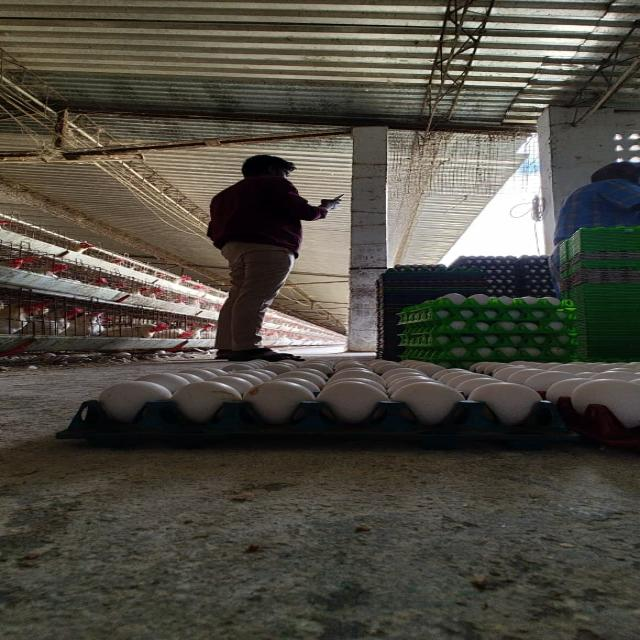egg_tray: (58, 358, 565, 437), (58, 400, 577, 448), (0, 218, 222, 308), (401, 360, 639, 434), (440, 360, 639, 445), (99, 361, 331, 426), (470, 360, 639, 447), (400, 294, 575, 362), (376, 268, 485, 360), (401, 293, 574, 322), (572, 284, 639, 358), (399, 296, 575, 324), (556, 397, 639, 450), (400, 322, 575, 346), (402, 344, 574, 368), (399, 326, 576, 348), (377, 274, 485, 306), (576, 286, 639, 338), (401, 330, 576, 348), (560, 267, 639, 306), (560, 226, 639, 262), (560, 252, 639, 288), (376, 267, 485, 293), (569, 270, 639, 310), (405, 318, 573, 334), (572, 284, 639, 324), (429, 305, 574, 322), (424, 292, 566, 308), (400, 346, 479, 370), (401, 346, 479, 370), (575, 332, 639, 360), (516, 256, 554, 297), (383, 264, 477, 280), (452, 256, 519, 273), (481, 268, 518, 296), (517, 349, 572, 364), (486, 276, 515, 296), (431, 358, 476, 370), (438, 358, 477, 371), (399, 331, 428, 346), (483, 350, 514, 364), (387, 369, 408, 376), (492, 358, 511, 364), (474, 352, 487, 358), (528, 352, 536, 356), (498, 387, 506, 391), (158, 424, 165, 427), (561, 282, 564, 286), (423, 360, 433, 361), (607, 295, 610, 298), (394, 396, 398, 398), (406, 355, 410, 356), (373, 364, 374, 366), (549, 361, 550, 362), (382, 365, 382, 366), (409, 352, 411, 352), (602, 297, 604, 297)
